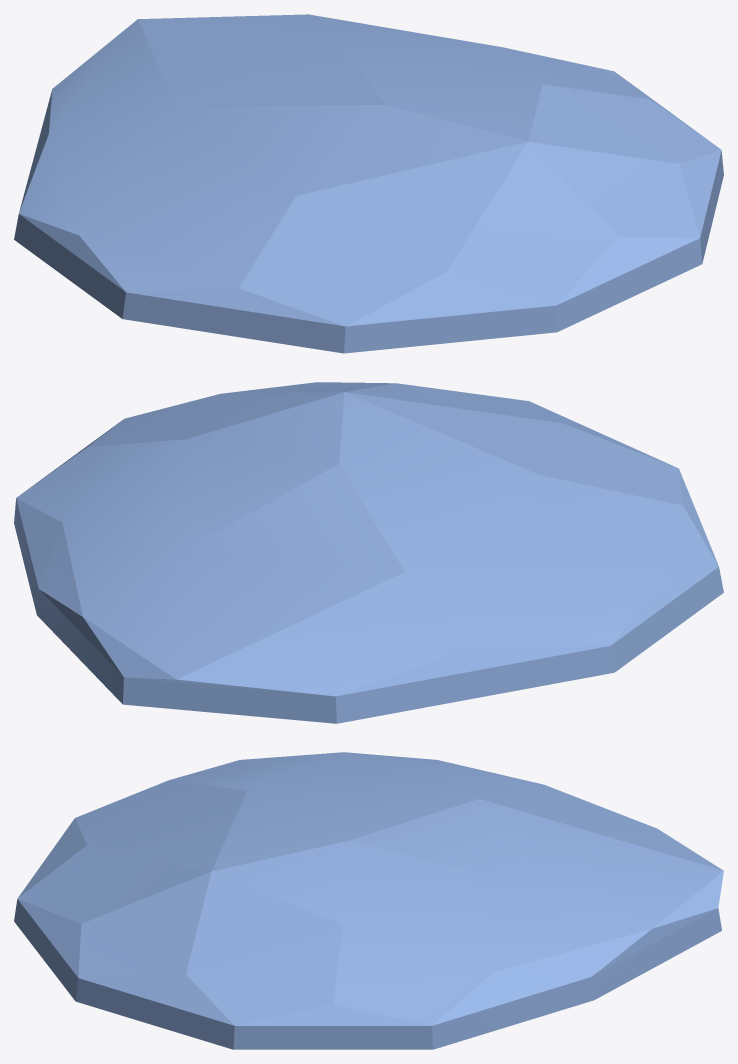
The model's file is snow_pile.fbx.
3 renders of one model, top to bottom at view 1: azimuth 30°, elevation 25°; view 2: azimuth 150°, elevation 25°; view 3: azimuth 270°, elevation 25°, orthographic. The views are drawn at different scales.
Visible parts, largest first — view 1: Icosphere; view 2: Icosphere; view 3: Icosphere.
Part boxes in pixels (bbox=[...]): Icosphere: bbox=[14, 14, 723, 353]; Icosphere: bbox=[14, 382, 723, 723]; Icosphere: bbox=[14, 752, 723, 1049].
Size of the model in its own units: 1028 by 152 by 1148.
